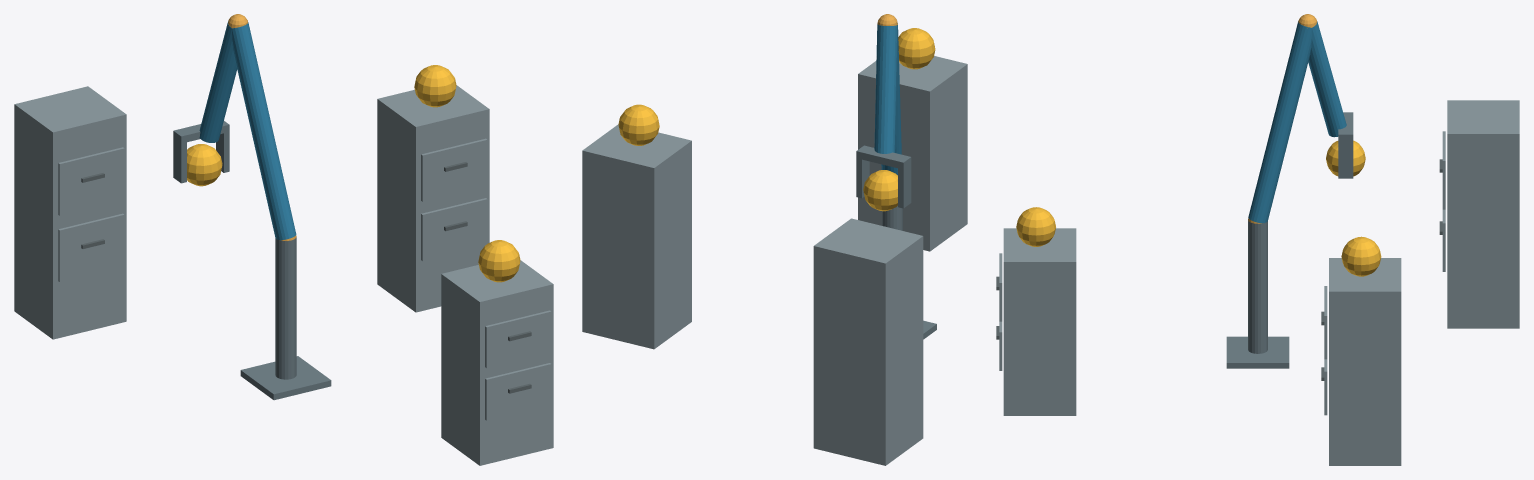
3 renders of one model, left to right at view 1: azimuth 30°, elevation 25°; view 2: azimuth 150°, elevation 25°; view 3: azimuth 270°, elevation 25°, orthographic. The views are drawn at different scales.
Parts seen in each view (by area): view 1: cabinet_3 body, cabinet_2 body, cabinet_1 body, moving link 1, cabinet_3 drawer front.001, cabinet_3 drawer front, cabinet_2 drawer front, cabinet_2 drawer front.001, fixed post, cabinet_1 drawer front.001, cabinet_1 drawer front, moving link 2 (+5 smaller); view 2: cabinet_3 body, cabinet_2 body, cabinet_1 body, moving link 2, released ball_2, released ball_1, ball ball_3, gripper bridge, moving link 1, gripper finger -1, gripper finger 1, fixed post; view 3: cabinet_3 body, cabinet_2 body, cabinet_1 body, moving link 1, fixed post, moving link 2, pedestal, released ball_2, released ball_1, ball ball_3, gripper finger 1.
Part boxes in pixels (bbox=[...]): cabinet_3 body: bbox=[14, 86, 126, 339]; cabinet_2 body: bbox=[377, 85, 489, 312]; cabinet_1 body: bbox=[441, 260, 553, 465]; moving link 1: bbox=[232, 22, 296, 240]; cabinet_3 drawer front.001: bbox=[58, 147, 124, 215]; cabinet_3 drawer front: bbox=[58, 213, 124, 281]; cabinet_2 drawer front: bbox=[421, 198, 487, 261]; cabinet_2 drawer front.001: bbox=[421, 138, 487, 201]; fixed post: bbox=[275, 237, 296, 379]; cabinet_1 drawer front.001: bbox=[485, 310, 551, 368]; cabinet_1 drawer front: bbox=[485, 363, 551, 420]; moving link 2: bbox=[199, 21, 237, 142]; cabinet_3 body: bbox=[813, 218, 923, 465]; cabinet_2 body: bbox=[582, 124, 691, 349]; cabinet_1 body: bbox=[858, 56, 967, 251]; moving link 2: bbox=[874, 24, 897, 153]; released ball_2: bbox=[618, 104, 659, 145]; released ball_1: bbox=[898, 28, 935, 69]; ball ball_3: bbox=[863, 170, 897, 211]; gripper bridge: bbox=[856, 145, 911, 169]; moving link 1: bbox=[881, 23, 901, 175]; gripper finger -1: bbox=[898, 164, 911, 208]; gripper finger 1: bbox=[856, 158, 869, 198]; fixed post: bbox=[882, 205, 902, 230]; cabinet_3 body: bbox=[1447, 100, 1519, 328]; cabinet_2 body: bbox=[1329, 258, 1401, 465]; cabinet_1 body: bbox=[1003, 228, 1076, 415]; moving link 1: bbox=[1248, 21, 1311, 223]; fixed post: bbox=[1248, 220, 1267, 353]; moving link 2: bbox=[1308, 21, 1346, 137]; pedestal: bbox=[1226, 336, 1289, 368]; released ball_2: bbox=[1341, 236, 1381, 276]; released ball_1: bbox=[1016, 207, 1055, 246]; ball ball_3: bbox=[1326, 140, 1365, 176]; gripper finger 1: bbox=[1338, 141, 1353, 178].
Bounding box in the file's own units: 1.62 × 1.46 × 2.1.
